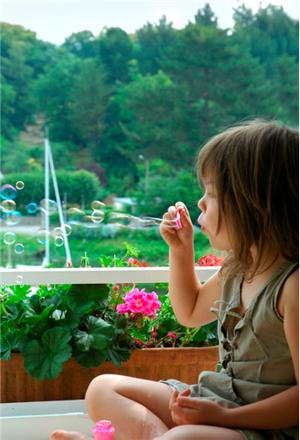person: (84, 119, 299, 440)
